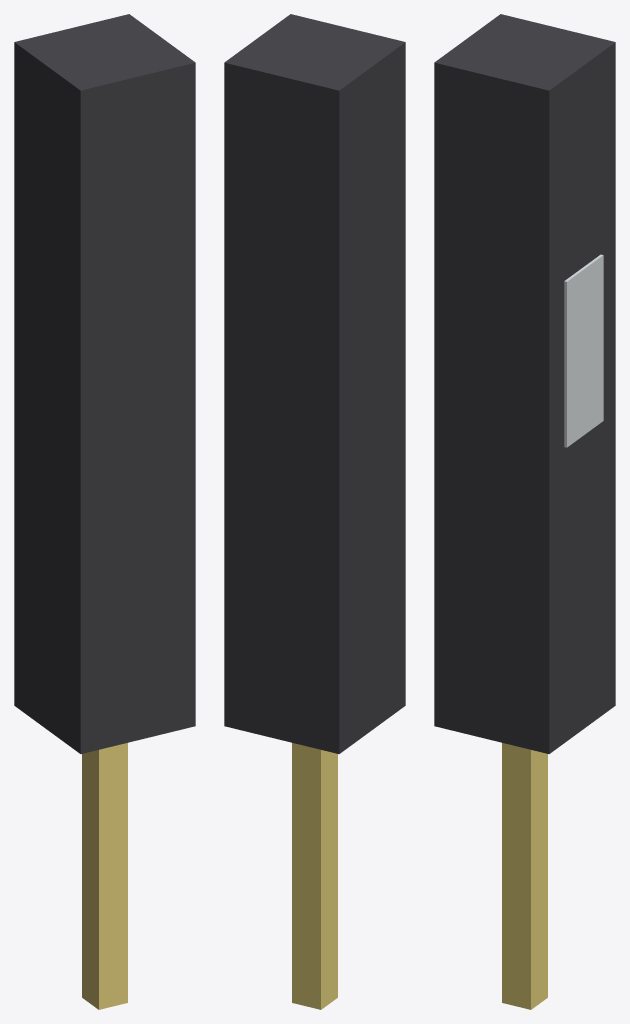
Rendered from dupont_male_pin.glb.
3 renders of one model, left to right at view 1: azimuth 30°, elevation 25°; view 2: azimuth 150°, elevation 25°; view 3: azimuth 330°, elevation 25°, orthographic.
Visible parts, largest first — view 1: Dupont_Housing, Dupont_Male_Pin; view 2: Dupont_Housing, Dupont_Male_Pin; view 3: Dupont_Housing, Dupont_Male_Pin, Dupont_Crimp_Window.
Boxes of the visible parts, bbox=[...] form: Dupont_Housing: bbox=[14, 14, 195, 753]; Dupont_Male_Pin: bbox=[82, 743, 127, 1009]; Dupont_Housing: bbox=[224, 14, 405, 753]; Dupont_Male_Pin: bbox=[292, 743, 337, 1009]; Dupont_Housing: bbox=[434, 14, 615, 753]; Dupont_Male_Pin: bbox=[502, 743, 547, 1009]; Dupont_Crimp_Window: bbox=[564, 254, 603, 447].
Size of the model in its own units: 0.0026 by 0.02 by 0.00254.
